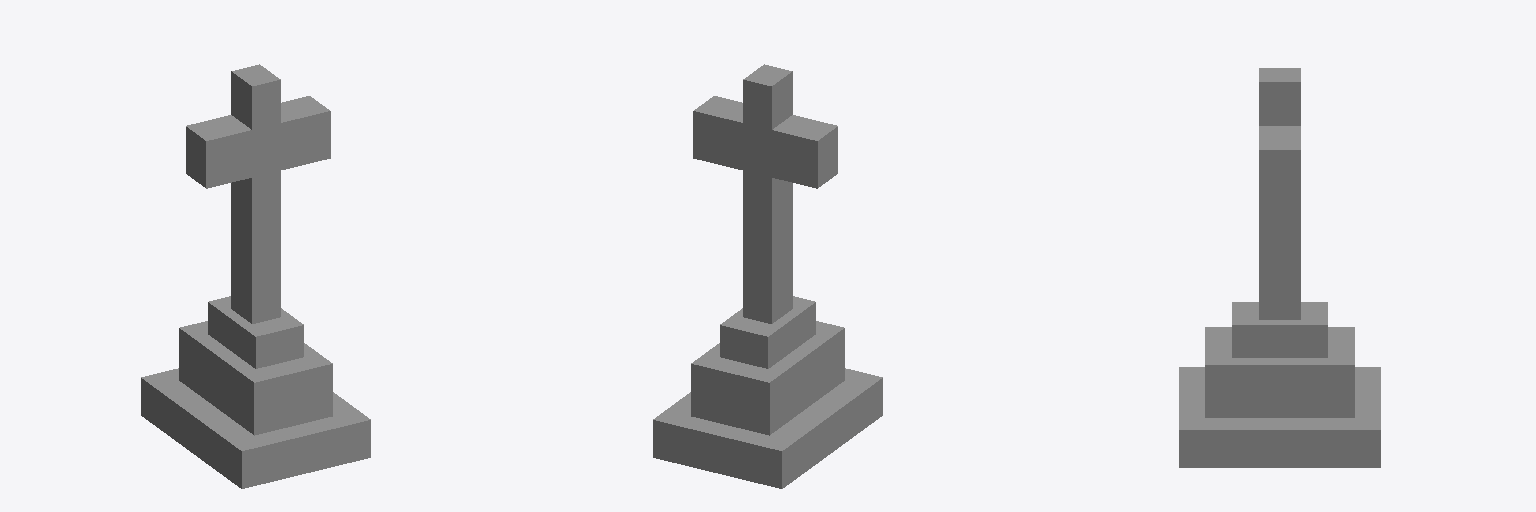
The model's file is Tomba.obj.
The picture shows the model from 3 angles: view 1: azimuth 30°, elevation 25°; view 2: azimuth 150°, elevation 25°; view 3: azimuth 270°, elevation 25°; orthographic projection.
Visible parts, largest first — view 1: Tomba_Cube.003; view 2: Tomba_Cube.003; view 3: Tomba_Cube.003.
Boxes of the visible parts, box(x1,y1,x2,y2) form: Tomba_Cube.003: box(141, 64, 370, 488); Tomba_Cube.003: box(653, 64, 882, 488); Tomba_Cube.003: box(1179, 68, 1380, 467).
Bounding box in the file's own units: 3.12 × 8.3 × 4.21.